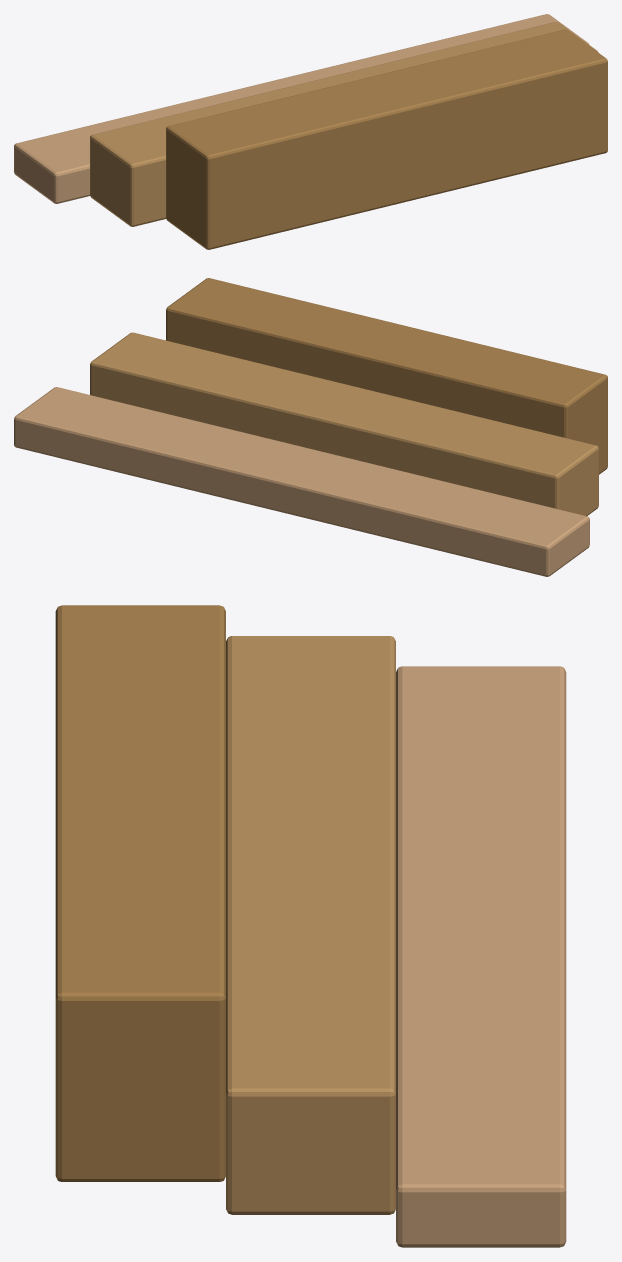
The model's file is khan-dai.glb.
The picture shows the model from 3 angles, top to bottom: view 1: azimuth 30°, elevation 25°; view 2: azimuth 150°, elevation 25°; view 3: azimuth 270°, elevation 25°; orthographic projection. The views are drawn at different scales.
Parts seen in each view (by area): view 1: khan-dai-2, khan-dai-1, khan-dai-0; view 2: khan-dai-0, khan-dai-1, khan-dai-2; view 3: khan-dai-0, khan-dai-2, khan-dai-1.
Part boxes in pixels (x1,y1,x2,y2): khan-dai-2: [166, 29, 607, 249]; khan-dai-1: [90, 22, 598, 226]; khan-dai-0: [14, 14, 589, 203]; khan-dai-0: [14, 387, 589, 576]; khan-dai-1: [90, 332, 598, 516]; khan-dai-2: [166, 278, 607, 474]; khan-dai-0: [396, 666, 566, 1247]; khan-dai-2: [55, 605, 225, 1181]; khan-dai-1: [226, 636, 395, 1214].
Size of the model in its own units: 8 by 1.35 by 3.3.
